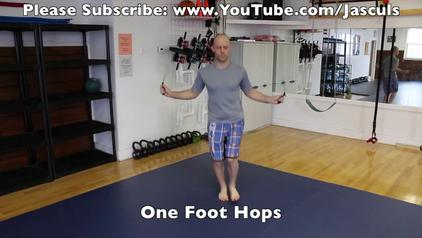stay: (381, 44, 398, 100), (297, 39, 312, 67)
